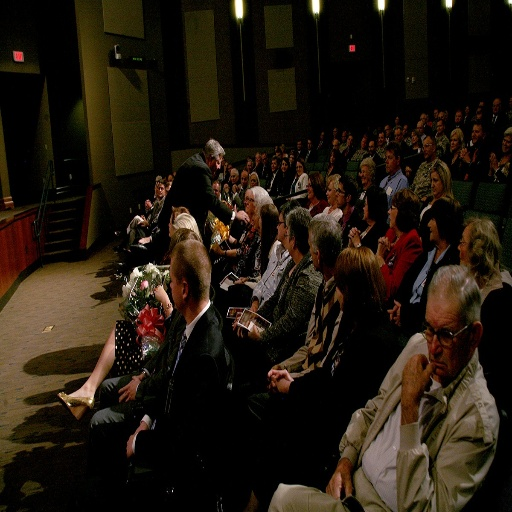hand: (398, 353, 433, 403), (325, 466, 352, 501), (119, 375, 143, 403), (117, 375, 139, 403), (267, 367, 294, 389), (236, 321, 261, 337), (272, 375, 291, 390), (375, 235, 388, 256), (348, 226, 362, 245), (389, 300, 400, 324), (375, 233, 391, 249), (235, 208, 250, 225), (126, 433, 135, 458), (346, 225, 361, 239), (209, 241, 223, 255), (153, 285, 165, 300), (386, 301, 394, 320), (489, 151, 497, 170), (133, 423, 148, 433), (138, 235, 151, 245), (461, 146, 469, 162), (234, 276, 251, 283), (459, 145, 468, 158), (249, 299, 258, 309), (223, 181, 230, 193), (138, 213, 147, 222), (139, 218, 148, 227), (231, 184, 238, 195), (145, 199, 152, 208)
